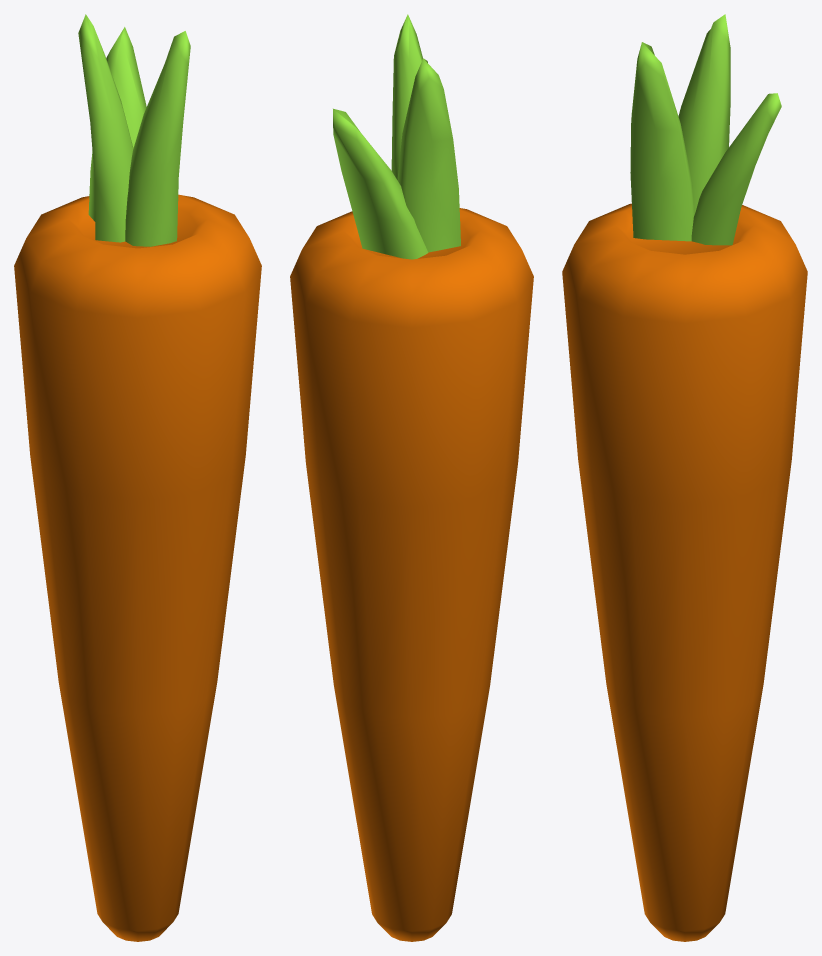
The model's file is m_carrot.fbx.
3 views of the same model, side by side, from view 1: azimuth 30°, elevation 25°; view 2: azimuth 150°, elevation 25°; view 3: azimuth 270°, elevation 25° (orthographic).
Visible parts, largest first — view 1: m_carrot; view 2: m_carrot; view 3: m_carrot.
Part boxes in pixels (x1,y1,x2,y2): m_carrot: [14, 14, 261, 941]; m_carrot: [290, 14, 533, 941]; m_carrot: [562, 14, 807, 941].
Bounding box in the file's own units: 13.15 × 53.31 × 13.15.
